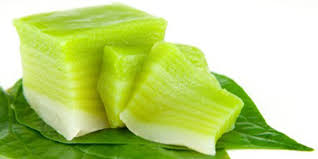kanomchan: (12, 1, 175, 144)
